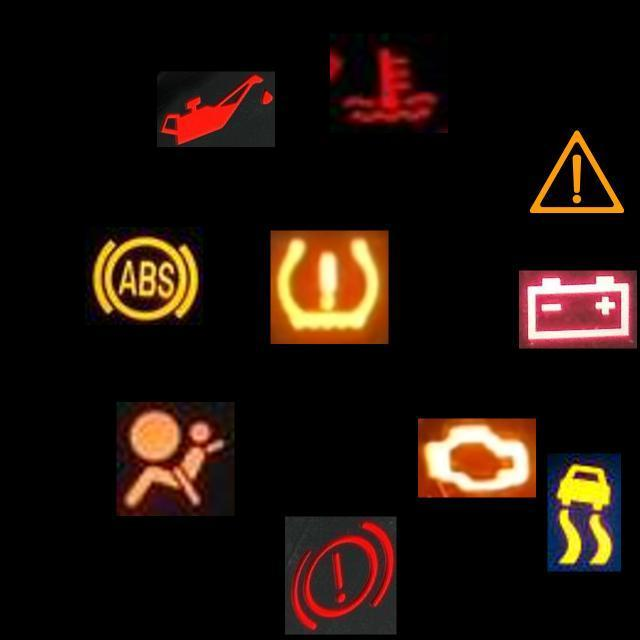Central Warning lamp: (518, 113, 636, 231)
Engine cooling system: (330, 34, 448, 132)
